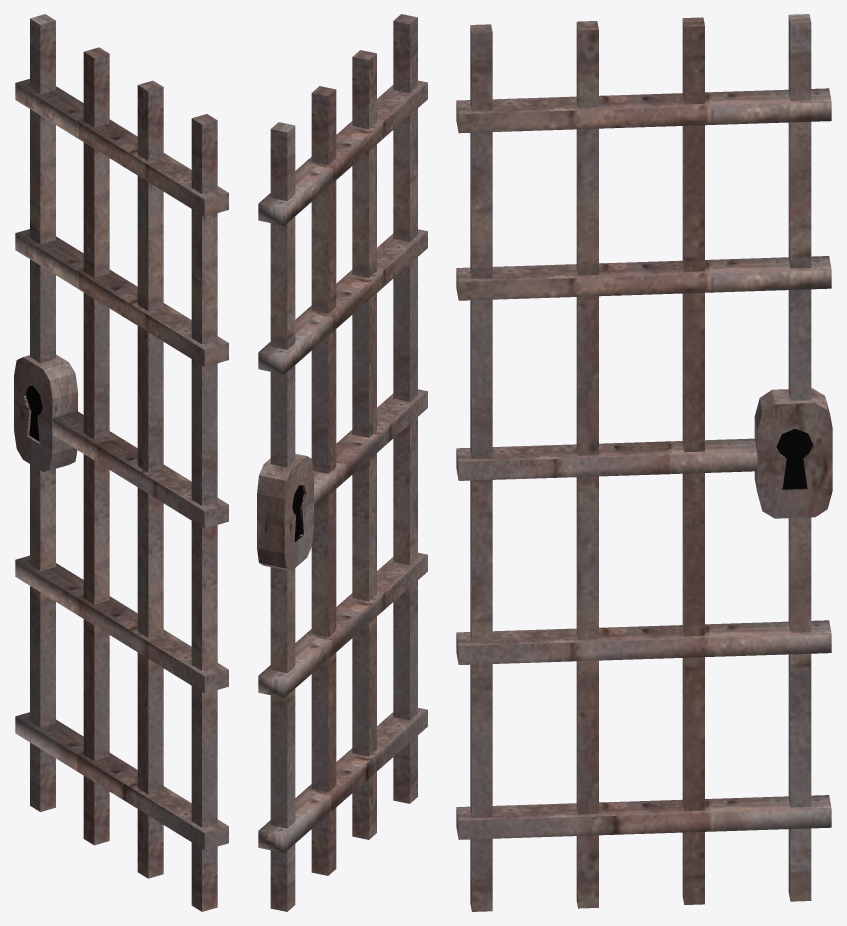
The model's file is MetalDoor.fbx.
3 renders of one model, left to right at view 1: azimuth 30°, elevation 25°; view 2: azimuth 150°, elevation 25°; view 3: azimuth 270°, elevation 25°, orthographic. The views are drawn at different scales.
Parts seen in each view (by area): view 1: Fence; view 2: Fence; view 3: Fence.
Boxes of the visible parts, x1,y1,x2,y2 form: Fence: (14,14,228,911); Fence: (257,14,427,911); Fence: (456,14,832,911).
Size of the model in its own units: 21.79 by 338 by 131.
2 materials, 1 textured.
